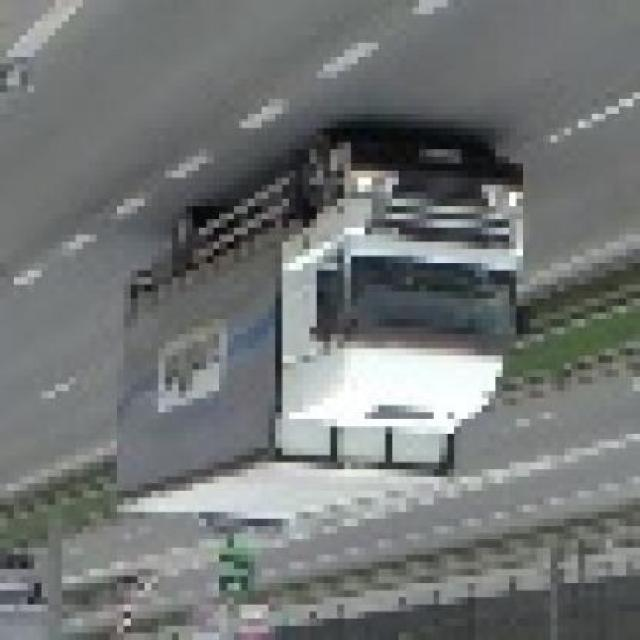truck: (117, 143, 545, 534)
